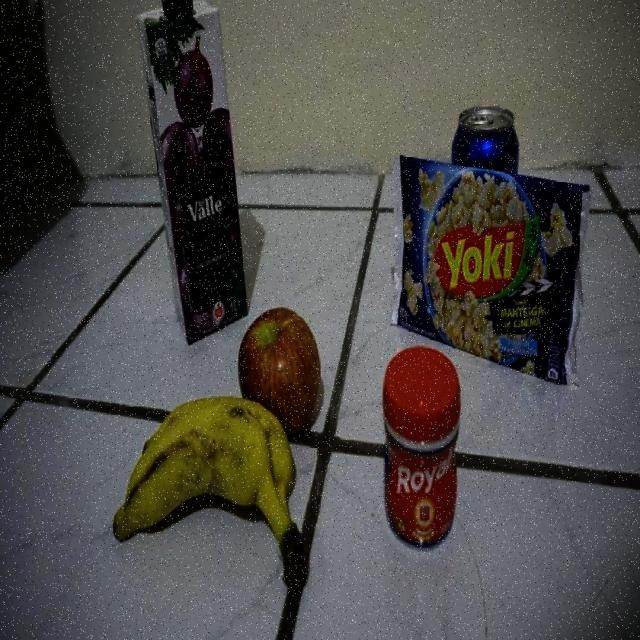Apple: (237, 306, 322, 438)
Banana: (114, 394, 309, 601)
Popcorn: (392, 150, 592, 392)
SodaCan: (448, 103, 524, 170)
Yeast: (384, 348, 462, 549)
